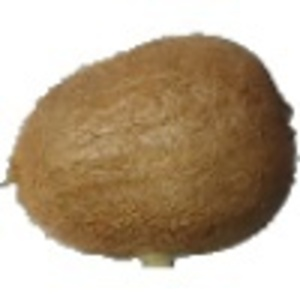kiwi: (1, 32, 300, 273)
